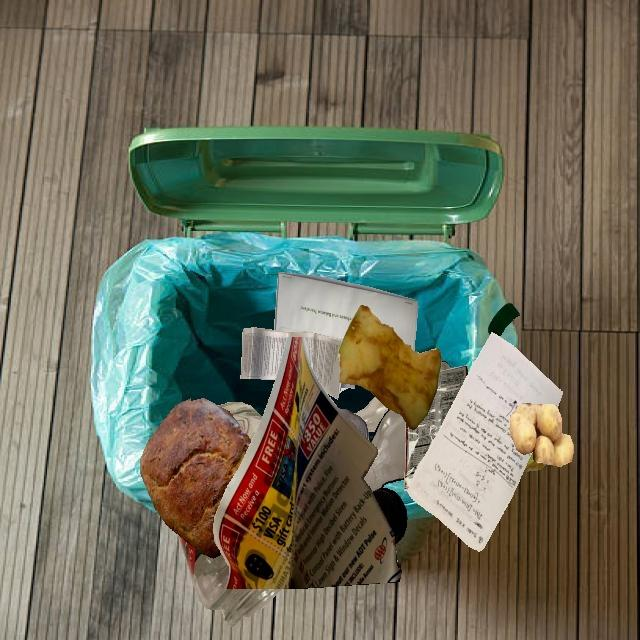biowaste: (140, 398, 251, 558), (339, 305, 441, 429), (510, 403, 574, 467), (523, 452, 546, 472)
glass: (178, 534, 281, 627), (363, 409, 406, 492), (354, 396, 389, 432), (339, 409, 368, 440)
paper: (213, 337, 402, 589), (408, 332, 563, 551), (274, 272, 418, 351), (240, 327, 355, 399)
plastic: (404, 366, 468, 491), (372, 488, 407, 566), (488, 302, 520, 337)
